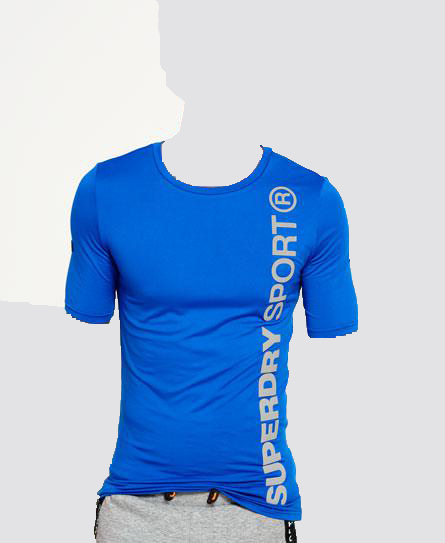teeshirt: (62, 137, 362, 523)
